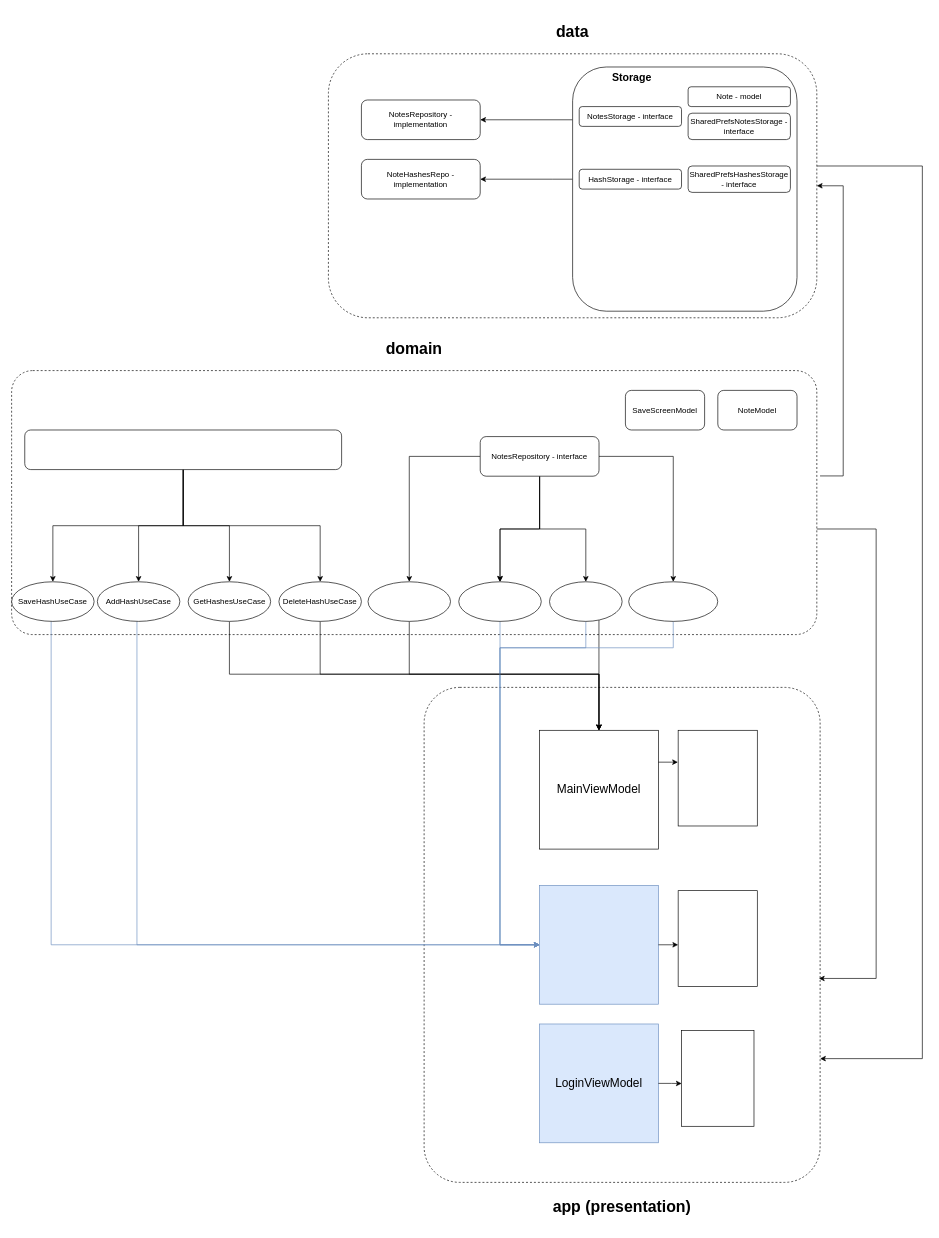
Some shapes in this 939 by 1238 pixel diagram are drawn without their labels. The shapes that lost their labels are listed below. From the top down, each one's centre as x and y in pixels, then its label:
[183,449]: NoteHashesRepo - interface
[409,601]: Dele teNoteUseCase
[499,601]: SaveNoteUseCase
[585,601]: GetNotesUseCase
[673,601]: ChangeNoteUseCase
[717,778]: Main Activity
[598,944]: OpenNoteViewModel
[717,938]: OpenNote Activity
[717,1078]: Login Activity
